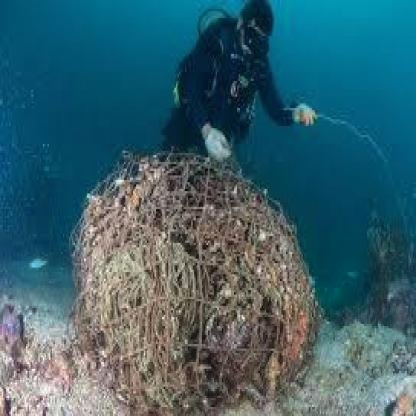net: (70, 153, 312, 411)
